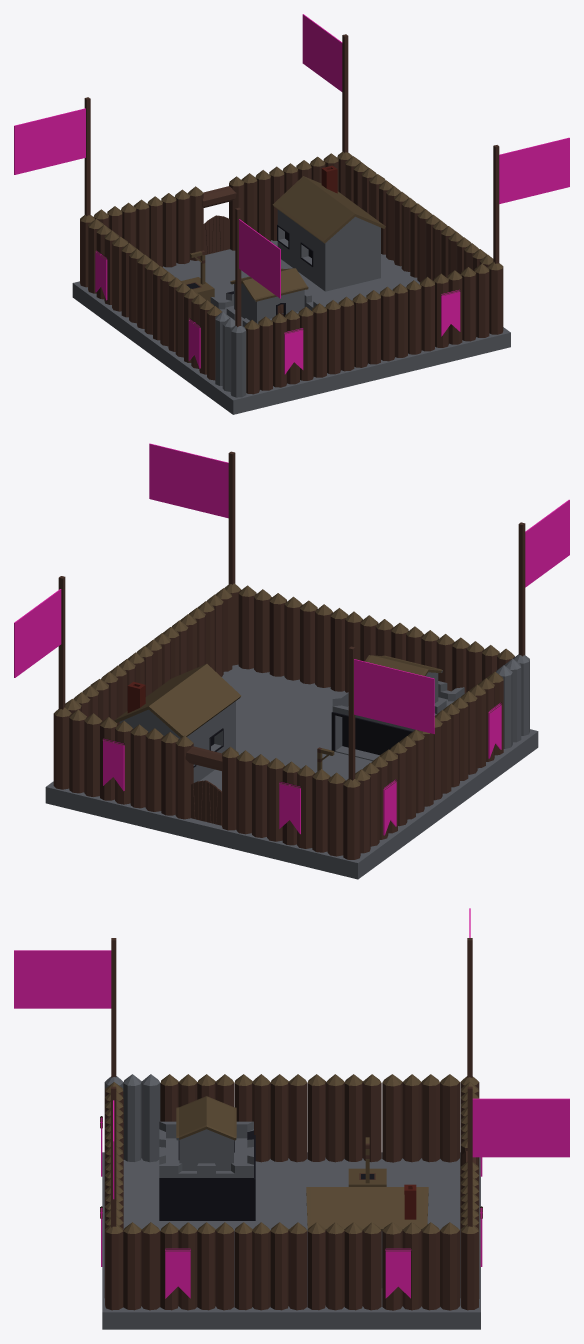
Rendered from updatedCastleLV2.fbx.
3 views of the same model, one above another, from view 1: azimuth 30°, elevation 25°; view 2: azimuth 150°, elevation 25°; view 3: azimuth 270°, elevation 25° (orthographic). The views are drawn at different scales.
Visible parts, largest first — view 1: Banner; view 2: Banner; view 3: Banner.
Boxes of the visible parts, x1,y1,x2,y2 form: Banner: [14, 14, 569, 414]; Banner: [14, 443, 569, 879]; Banner: [14, 908, 569, 1329].
Size of the model in its own units: 2911 by 1376 by 2937.
